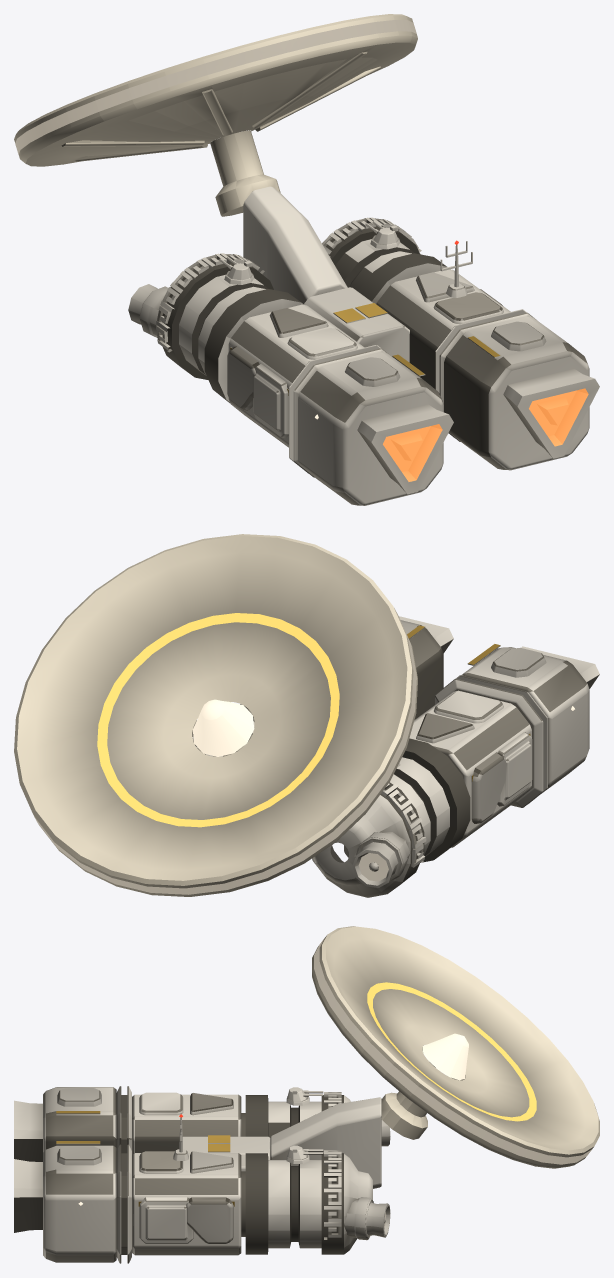
File: plektor_ecm.glb
The picture shows the model from 3 angles, top to bottom: view 1: azimuth 30°, elevation 25°; view 2: azimuth 150°, elevation 25°; view 3: azimuth 270°, elevation 25°; orthographic projection. The views are drawn at different scales.
Visible parts, largest first — view 1: hull, emitter, engines; view 2: emitter, hull, engines; view 3: hull, emitter, engines, pd_1.
Part boxes in pixels (box(x1,y1,x2,y2)): hull: box(156, 186, 589, 505); emitter: box(14, 14, 417, 216); engines: box(128, 284, 599, 494); emitter: box(14, 534, 417, 896); hull: box(192, 620, 589, 897); engines: box(352, 616, 599, 887); hull: box(43, 1086, 381, 1263); emitter: box(312, 926, 599, 1168); engines: box(14, 1100, 390, 1240); pd_1: box(286, 1145, 323, 1163).
Size of the model in its own units: 28.28 by 24.75 by 48.8.
Materials: 10 (4 with a texture image).
